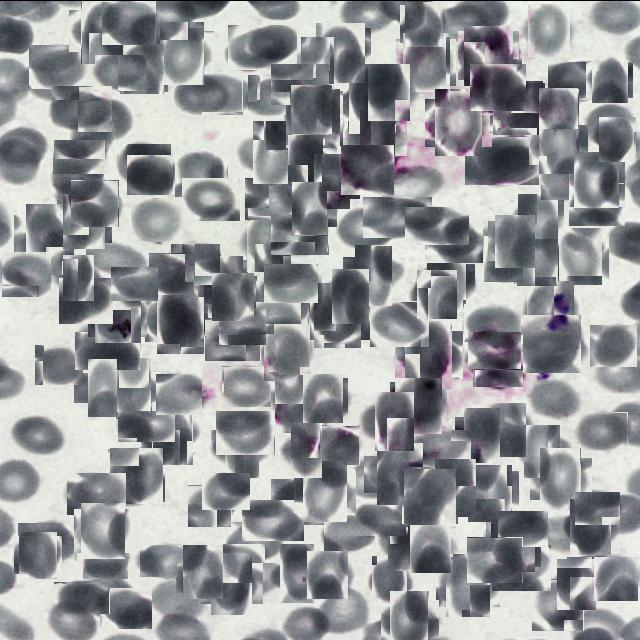red blood cell: (20, 208, 80, 268), (465, 136, 539, 184), (151, 288, 210, 347), (343, 69, 402, 127), (400, 325, 458, 383), (523, 314, 581, 372), (285, 89, 342, 146), (430, 94, 488, 150), (228, 24, 298, 70), (310, 287, 366, 343), (174, 70, 243, 114), (313, 24, 368, 79), (109, 447, 164, 502), (461, 27, 516, 82), (75, 3, 129, 58), (403, 469, 457, 524), (441, 557, 495, 611), (155, 25, 209, 79), (524, 283, 578, 337), (400, 34, 452, 89), (363, 196, 432, 237), (298, 464, 352, 516), (492, 80, 544, 134), (336, 204, 399, 248), (370, 300, 430, 346), (52, 85, 112, 131), (205, 556, 258, 608), (392, 378, 444, 431), (425, 215, 483, 262), (492, 544, 551, 590), (535, 452, 587, 504), (243, 214, 295, 266), (261, 326, 313, 378), (272, 377, 324, 429), (532, 578, 584, 630), (146, 406, 198, 458), (472, 60, 524, 112), (314, 584, 370, 632), (216, 409, 275, 454), (555, 230, 606, 282), (341, 144, 394, 194), (245, 177, 308, 219), (223, 520, 285, 562), (465, 467, 516, 518), (78, 504, 128, 556), (467, 536, 523, 582), (29, 44, 87, 88), (572, 153, 622, 204), (242, 499, 304, 540), (348, 250, 398, 300), (246, 127, 296, 177), (488, 518, 538, 568), (370, 448, 420, 498), (431, 462, 481, 512), (364, 66, 414, 116), (182, 177, 240, 220), (50, 154, 104, 200), (59, 277, 113, 323), (67, 472, 126, 514), (271, 62, 330, 104), (75, 331, 140, 369), (407, 428, 472, 466), (569, 182, 625, 226), (534, 119, 583, 169), (299, 424, 360, 464), (175, 150, 228, 196), (131, 197, 184, 243), (271, 478, 324, 524), (270, 212, 328, 254), (405, 206, 469, 244), (60, 196, 109, 245), (281, 140, 330, 189), (369, 396, 418, 445), (566, 502, 616, 550), (480, 406, 530, 454), (256, 279, 310, 323), (102, 0, 156, 44), (10, 414, 66, 456), (526, 376, 582, 418), (205, 318, 261, 360), (78, 240, 146, 274), (422, 259, 470, 307), (218, 422, 266, 470), (109, 364, 157, 412), (118, 44, 166, 92), (524, 5, 572, 53), (2, 250, 52, 296), (153, 578, 209, 619), (384, 518, 431, 566), (71, 179, 119, 226), (18, 522, 77, 560), (78, 100, 134, 140), (22, 60, 79, 99), (274, 549, 321, 596), (180, 548, 227, 595), (354, 114, 401, 161), (492, 216, 538, 264), (386, 595, 435, 640), (548, 61, 606, 99), (541, 157, 593, 199), (464, 303, 521, 341), (514, 196, 561, 242), (100, 587, 152, 628), (309, 157, 355, 203), (327, 272, 373, 318), (460, 412, 506, 458), (408, 524, 454, 570), (300, 374, 346, 420), (210, 273, 256, 319), (288, 86, 334, 132), (264, 263, 318, 302), (170, 242, 220, 284), (119, 143, 171, 183), (414, 271, 460, 316), (590, 323, 638, 366), (222, 365, 272, 406), (520, 428, 565, 473), (554, 562, 600, 606), (305, 552, 351, 596), (466, 331, 520, 368), (287, 186, 332, 230), (35, 344, 84, 384), (248, 74, 297, 114), (516, 240, 560, 284), (202, 257, 246, 301), (594, 556, 638, 600), (81, 365, 125, 409), (149, 252, 195, 294), (368, 559, 412, 602), (296, 41, 339, 85), (16, 532, 59, 576), (285, 428, 328, 472), (83, 536, 128, 578), (156, 373, 202, 414), (324, 514, 376, 550), (138, 544, 196, 576), (118, 409, 176, 441), (53, 138, 106, 173), (402, 1, 445, 44), (188, 484, 232, 526), (127, 154, 173, 194), (95, 54, 146, 90), (473, 350, 524, 386), (219, 306, 267, 344), (567, 555, 619, 590), (498, 510, 548, 546), (484, 235, 523, 281), (54, 582, 110, 614), (581, 411, 628, 449), (202, 472, 250, 509), (596, 118, 638, 160), (588, 103, 634, 140), (589, 59, 630, 100), (354, 504, 408, 535), (538, 87, 578, 128), (111, 266, 158, 300), (574, 490, 620, 524), (59, 257, 98, 296)
trophozoite: (91, 287, 144, 339)
